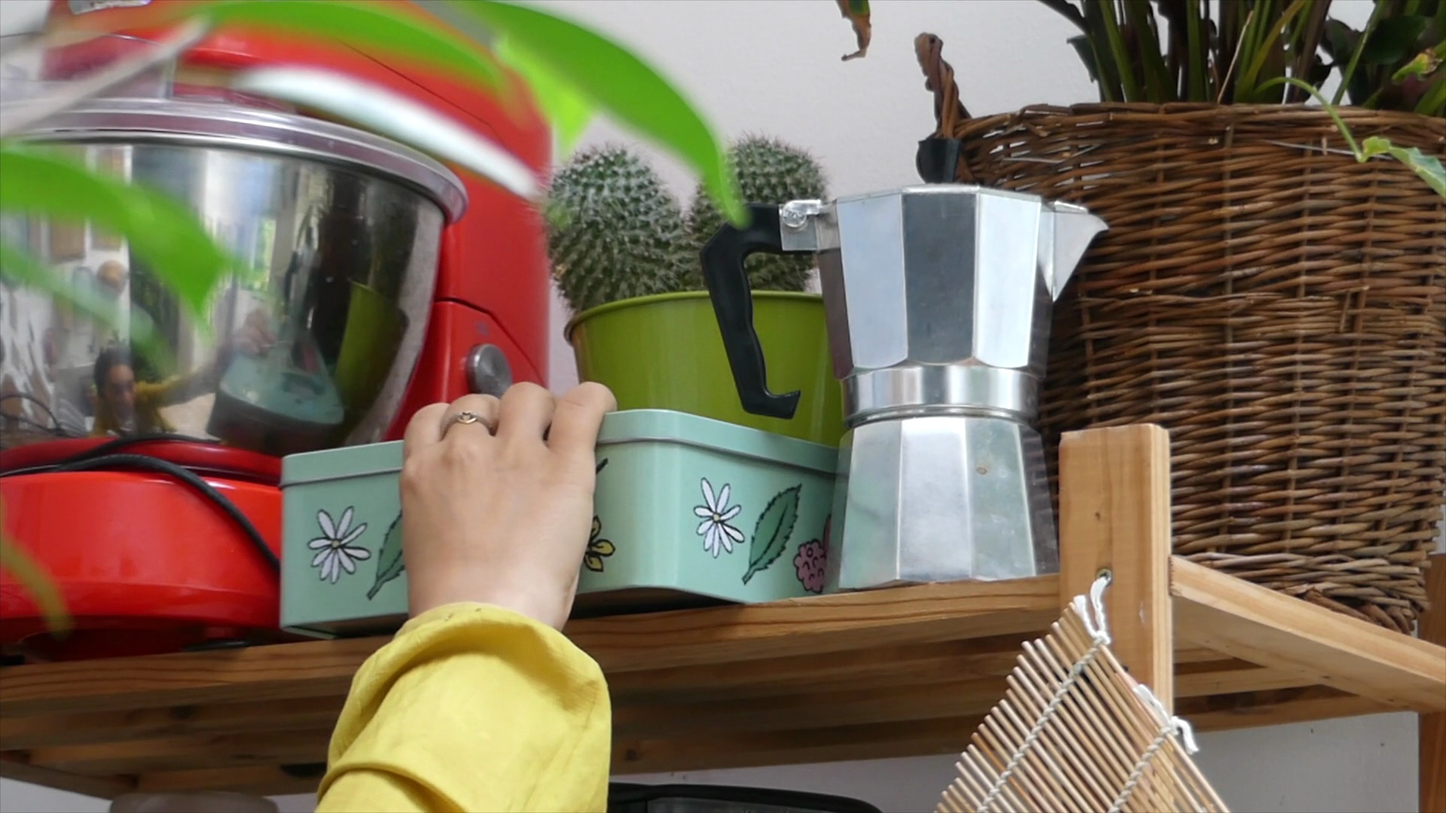dates_box: (689, 162, 1337, 608), (720, 186, 980, 405)
electronics: (952, 0, 1446, 813), (489, 373, 1111, 813), (1, 121, 320, 813), (826, 387, 1193, 813), (0, 366, 341, 813), (279, 437, 425, 638)
perfume_bottle: (0, 0, 643, 523), (714, 190, 889, 474), (718, 190, 857, 428)
wallet: (522, 384, 872, 633)
watch: (842, 0, 1420, 601), (545, 0, 1182, 456), (970, 251, 1445, 813), (757, 0, 1232, 438), (1103, 349, 1446, 813), (887, 585, 1271, 813), (916, 599, 1194, 813), (935, 643, 1276, 813), (885, 667, 1132, 813), (891, 748, 1054, 813)
